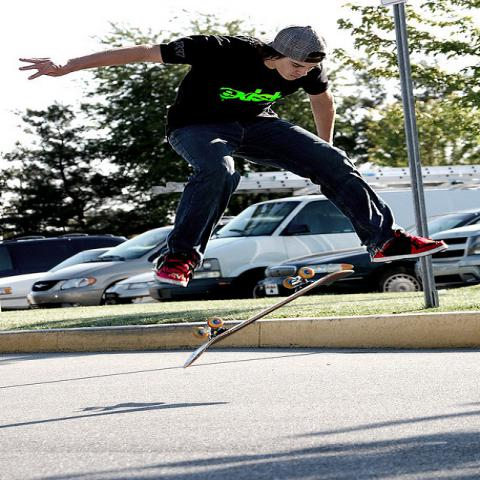car: (255, 208, 479, 299), (27, 224, 176, 310), (0, 249, 104, 313), (0, 233, 128, 279), (414, 224, 480, 287), (103, 264, 157, 308)
truck: (146, 193, 362, 302)
